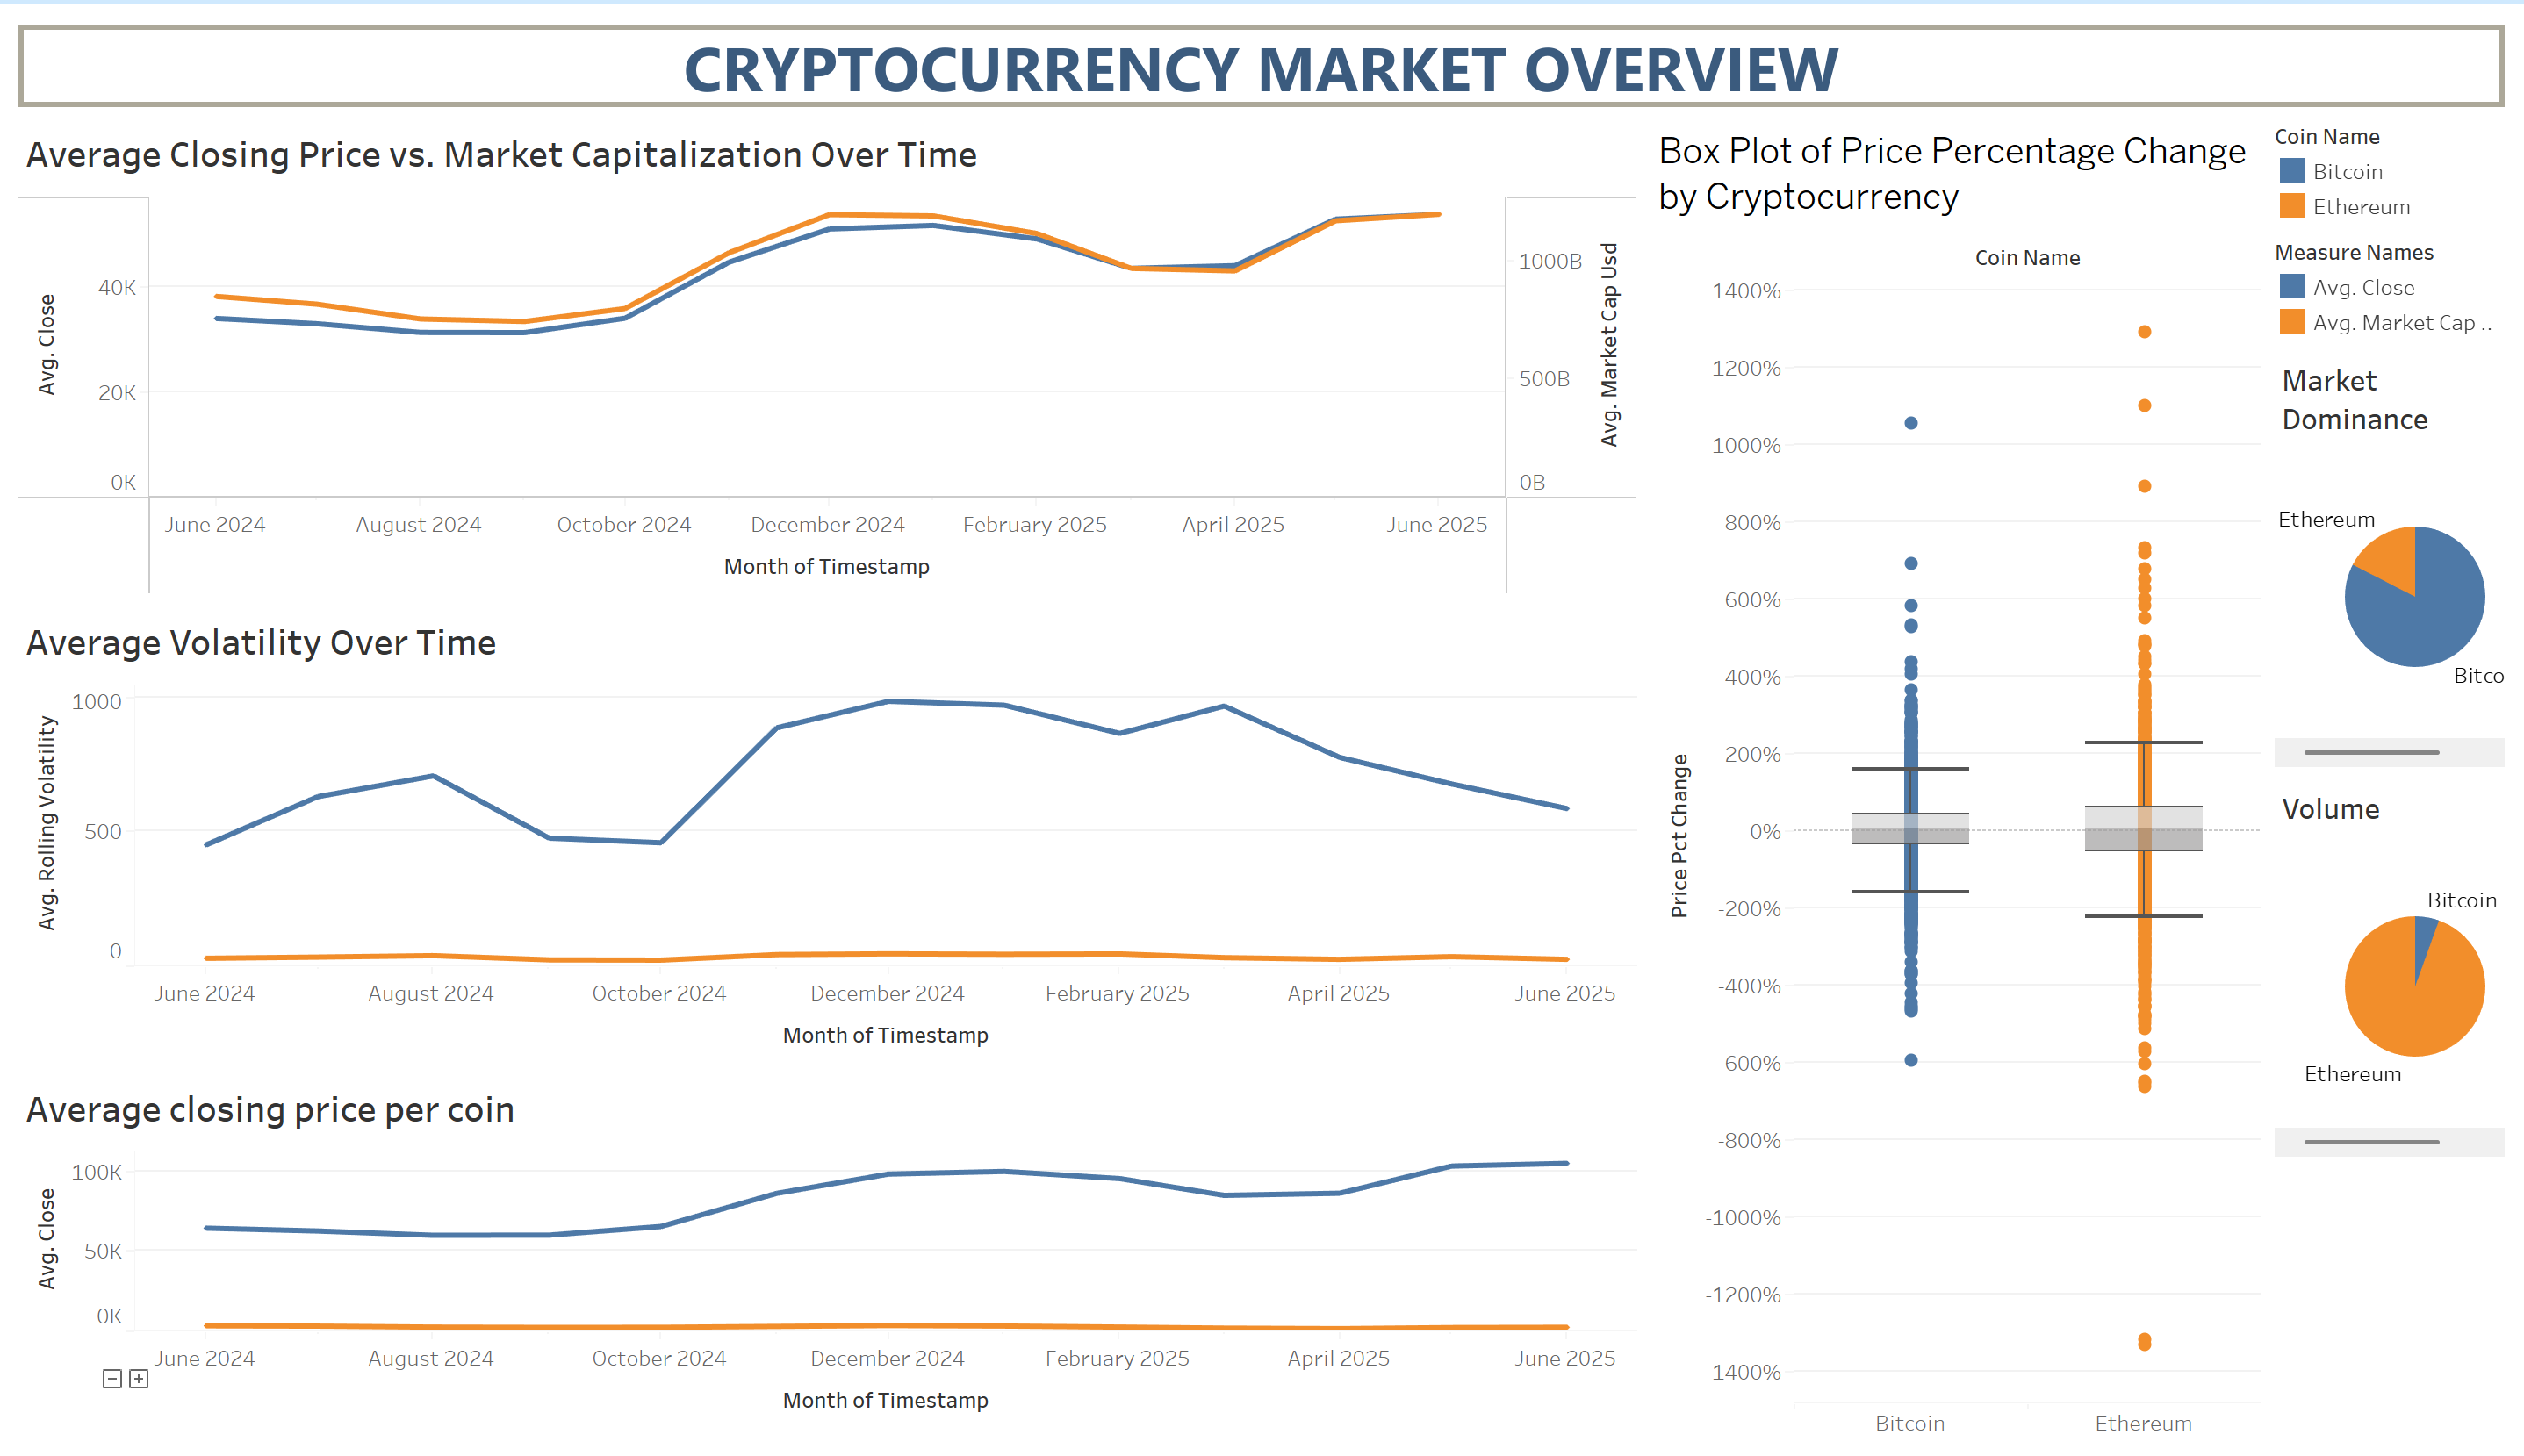

This screenshot's page, from the dashboard's own definition file:
{"tool":"tableau","page":{"name":"Dashboard 1","canvas":[1000,1000],"units":"permille","ordinal":0},"visuals":[{"type":"title","box":[4.9,9.3,990.3,76.7]},{"type":"worksheet","title":"Sheet 1","mark":"Automatic","rows":["close","market_cap_usd"],"cols":["timestamp"],"box":[4.9,86,646.7,331.4]},{"type":"worksheet","title":"Sheet 5","mark":"Circle","rows":["price_pct_change"],"cols":["coin_name"],"box":[651.5,86,247.1,904.7]},{"type":"legend","title":"Sheet 4","param":"[federated.16r978h18t2lu31fiexo81e4zwv0].[none:coin_name:nk]","box":[898.6,86,96.5,83.7]},{"type":"legend","title":"Sheet 1","param":"[federated.16r978h18t2lu31fiexo81e4zwv0].[:Measure Names]","box":[898.6,169.8,96.5,83.7]},{"type":"worksheet","title":"Sheet 2","mark":"Pie","box":[898.6,253.5,96.5,302.3]},{"type":"worksheet","title":"Sheet 4","mark":"Automatic","rows":["rolling_volatility"],"cols":["timestamp"],"box":[4.9,417.4,646.7,317.4]},{"type":"worksheet","title":"Sheet 3","mark":"Pie","box":[898.6,555.8,96.5,269.8]},{"type":"worksheet","title":"Sheet 6","mark":"Automatic","rows":["close"],"cols":["timestamp"],"box":[4.9,734.9,646.7,255.8]}]}

Visuals, with their boxes on the dashboard's canvas, which has no fixed pixel size, in thousandths of its width and height (x1, y1, x2, y2). These are canvas units, not pixel positions in the 2524x1456 screenshot, which may show the page scaled, cropped or inside an application window:
title: (x1=5, y1=9, x2=995, y2=86)
"Sheet 1" worksheet: (x1=5, y1=86, x2=652, y2=417)
"Sheet 5" worksheet (Circle marks): (x1=652, y1=86, x2=899, y2=991)
"Sheet 4" legend: (x1=899, y1=86, x2=995, y2=170)
"Sheet 1" legend: (x1=899, y1=170, x2=995, y2=254)
"Sheet 2" worksheet (Pie marks): (x1=899, y1=254, x2=995, y2=556)
"Sheet 4" worksheet: (x1=5, y1=417, x2=652, y2=735)
"Sheet 3" worksheet (Pie marks): (x1=899, y1=556, x2=995, y2=826)
"Sheet 6" worksheet: (x1=5, y1=735, x2=652, y2=991)
